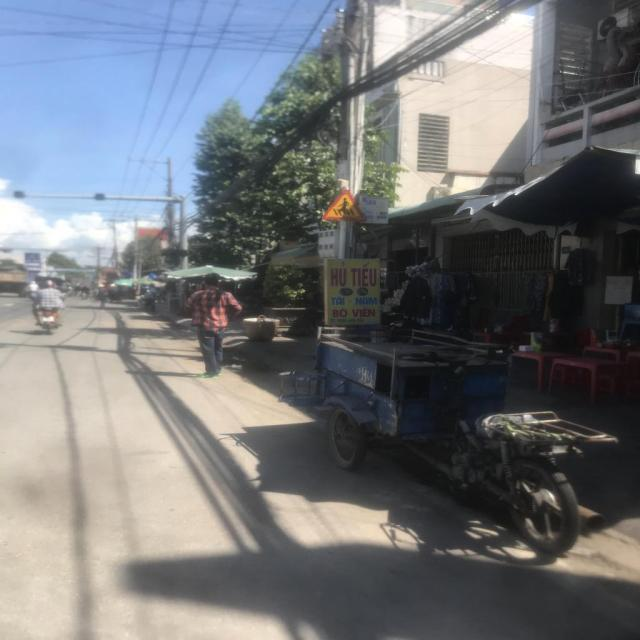224-duong-nguoi-di-bo-cat-ngang: (322, 188, 366, 222)
